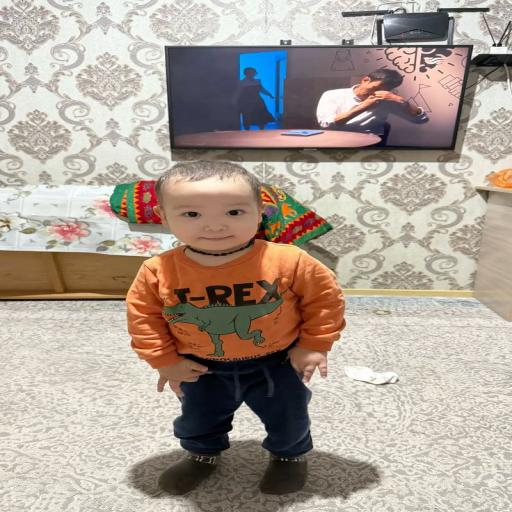bus_stop: (127, 161, 345, 494)
laptop: (317, 69, 428, 135), (234, 68, 275, 129)
